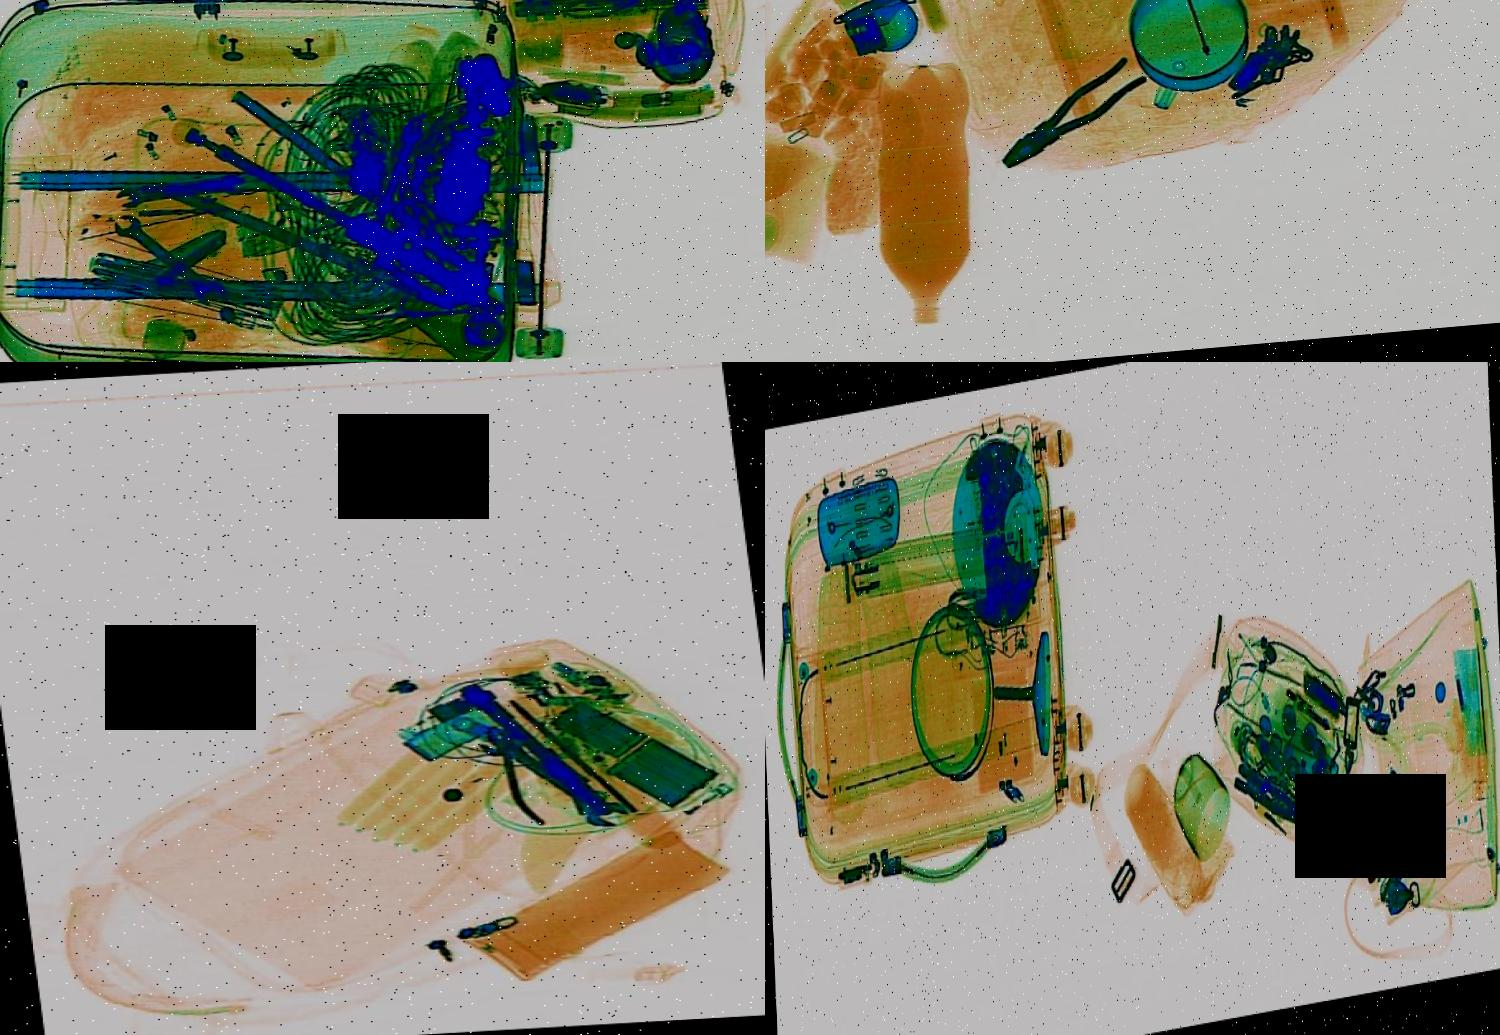Pliers: (113, 62, 546, 362), (979, 52, 1161, 177), (1221, 741, 1346, 870), (460, 711, 587, 833)
Wrench: (447, 667, 635, 844), (101, 201, 231, 317), (111, 170, 247, 210)
